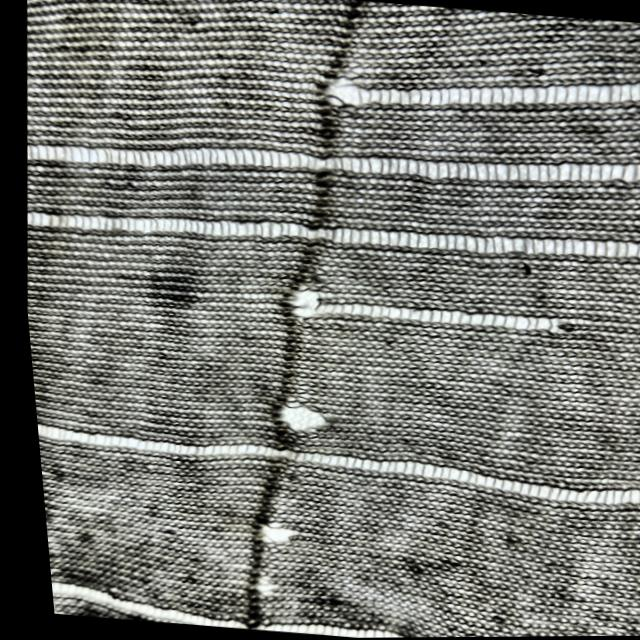Hole: (259, 390, 330, 438), (240, 517, 296, 549), (233, 568, 274, 605)
Stitch: (19, 103, 640, 227), (19, 181, 640, 289), (29, 412, 640, 521), (40, 572, 640, 640), (308, 46, 640, 139), (275, 278, 564, 356), (27, 0, 243, 11)
